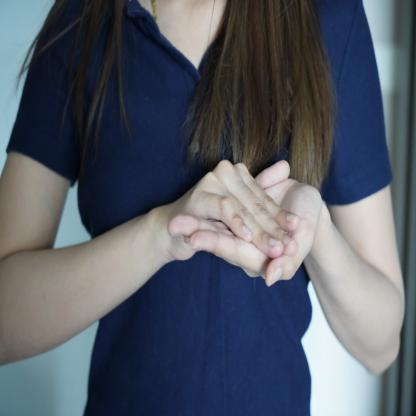Love: (143, 147, 344, 302)
